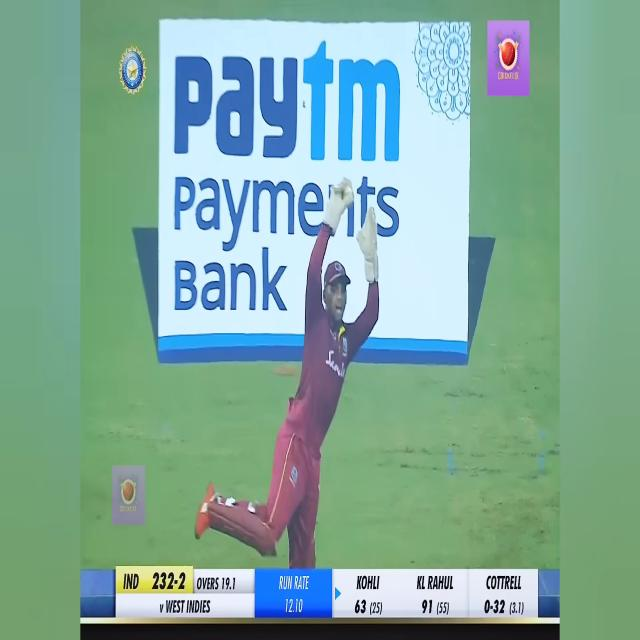fully_visible: (172, 36, 408, 172)
